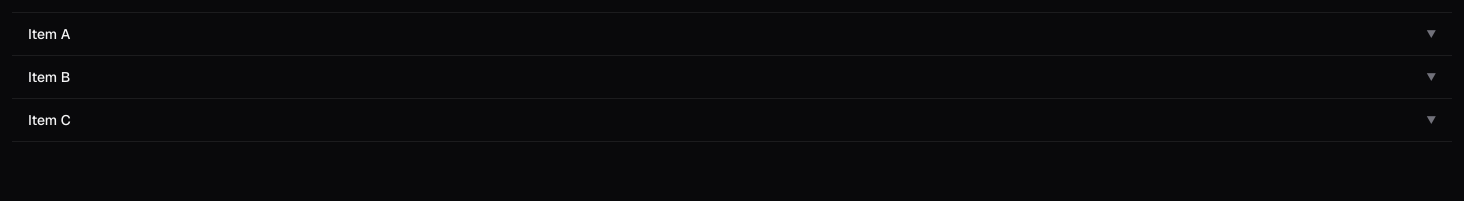
Accordion › opens an item when its header is clicked
Step 1. Click the button "Item A ▼" → (49, 34), box [12,13,1452,55]
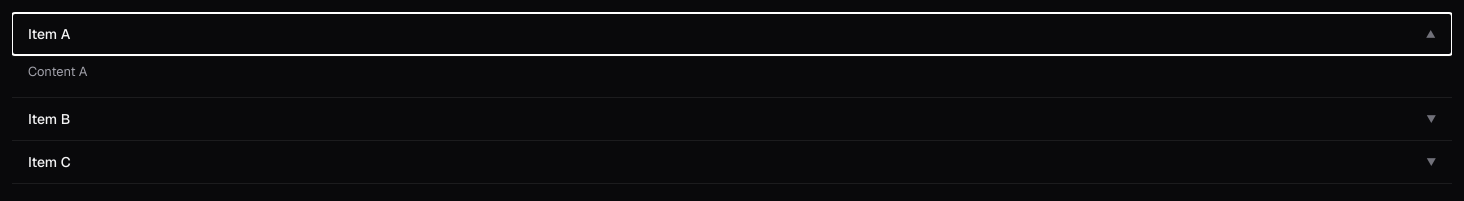
Now the button "Item A ▼" is expanded, box [12,13,1452,55]
